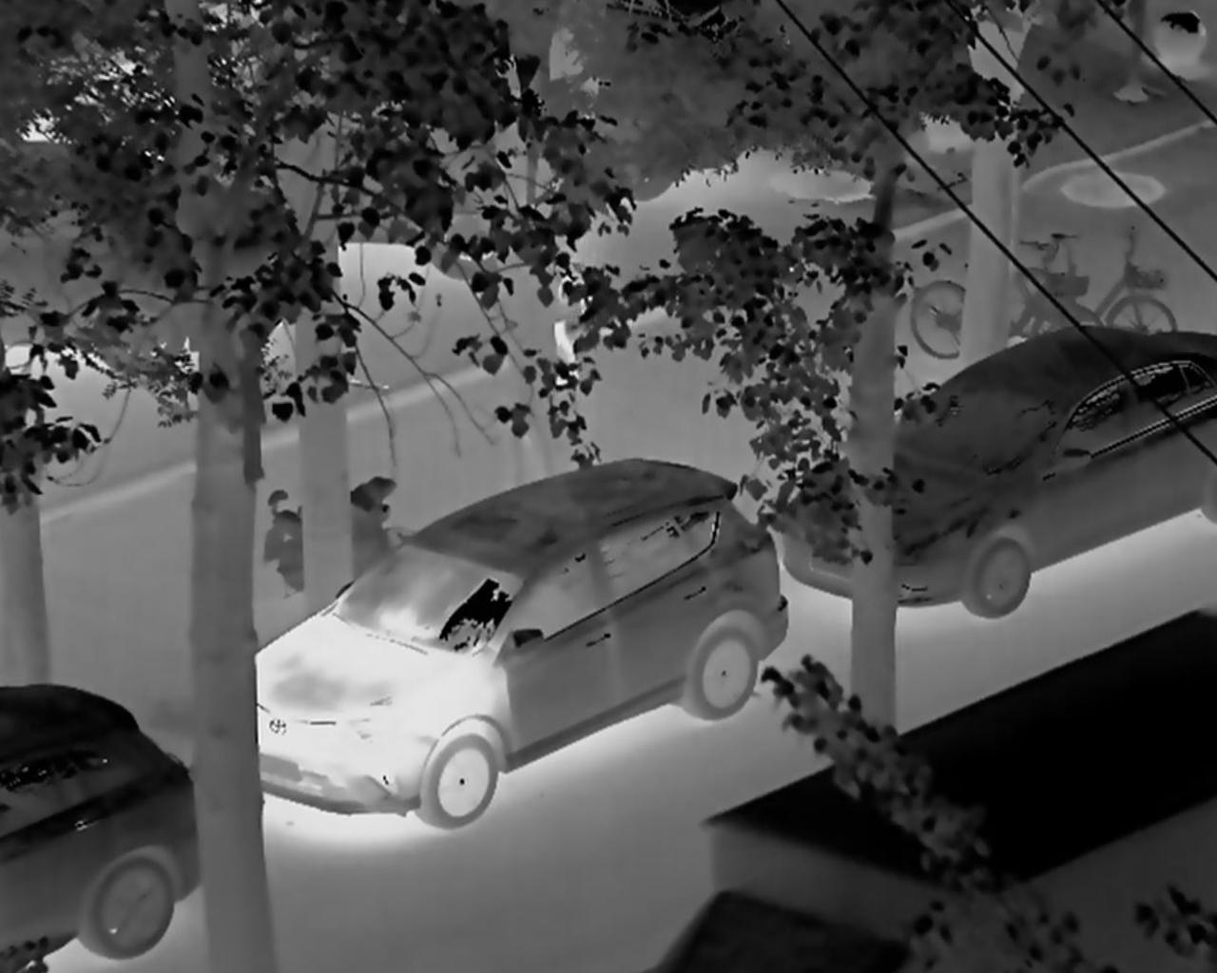person: (541, 246, 585, 386)
